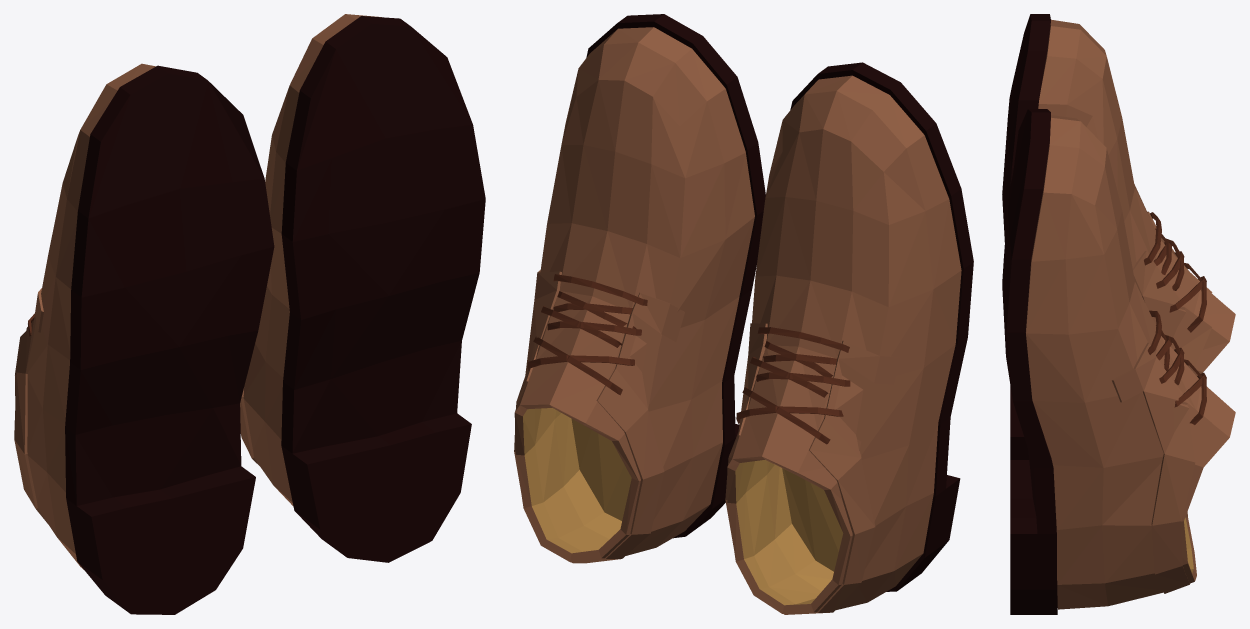
Rendered from jhute Pair of shoes.fbx.
The picture shows the model from 3 angles, left to right: view 1: azimuth 30°, elevation 25°; view 2: azimuth 150°, elevation 25°; view 3: azimuth 270°, elevation 25°; orthographic projection. The views are drawn at different scales.
Parts seen in each view (by area): view 1: imagetostl_mesh2, imagetostl_mesh0; view 2: imagetostl_mesh0, imagetostl_mesh3, imagetostl_mesh2, imagetostl_mesh1; view 3: imagetostl_mesh0, imagetostl_mesh2, imagetostl_mesh1.
Part boxes in pixels (x1=…): imagetostl_mesh2: x1=65, y1=16, x2=485, y2=614; imagetostl_mesh0: x1=14, y1=14, x2=381, y2=569; imagetostl_mesh0: x1=514, y1=27, x2=961, y2=614; imagetostl_mesh3: x1=523, y1=408, x2=843, y2=605; imagetostl_mesh2: x1=586, y1=14, x2=973, y2=591; imagetostl_mesh1: x1=527, y1=274, x2=850, y2=444; imagetostl_mesh0: x1=1026, y1=19, x2=1235, y2=609; imagetostl_mesh2: x1=1002, y1=14, x2=1057, y2=614; imagetostl_mesh1: x1=1144, y1=212, x2=1206, y2=424.
Bounding box in the file's own units: 201 × 252 × 109.
